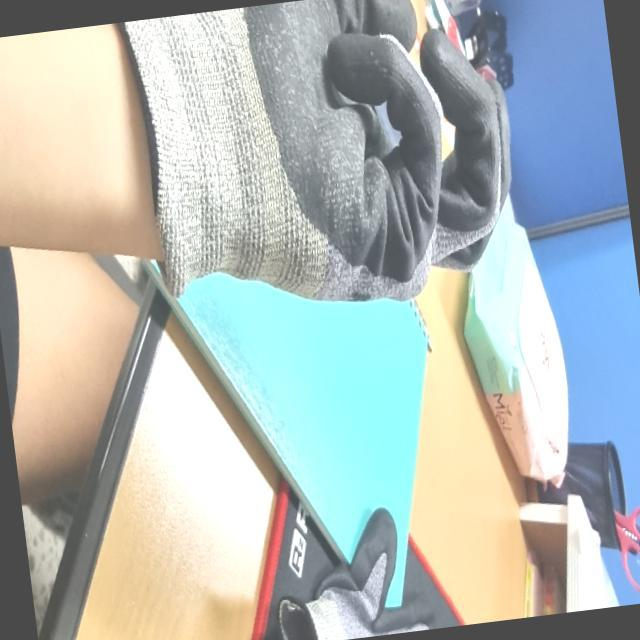Gloves: (127, 0, 511, 293), (284, 507, 439, 640)
